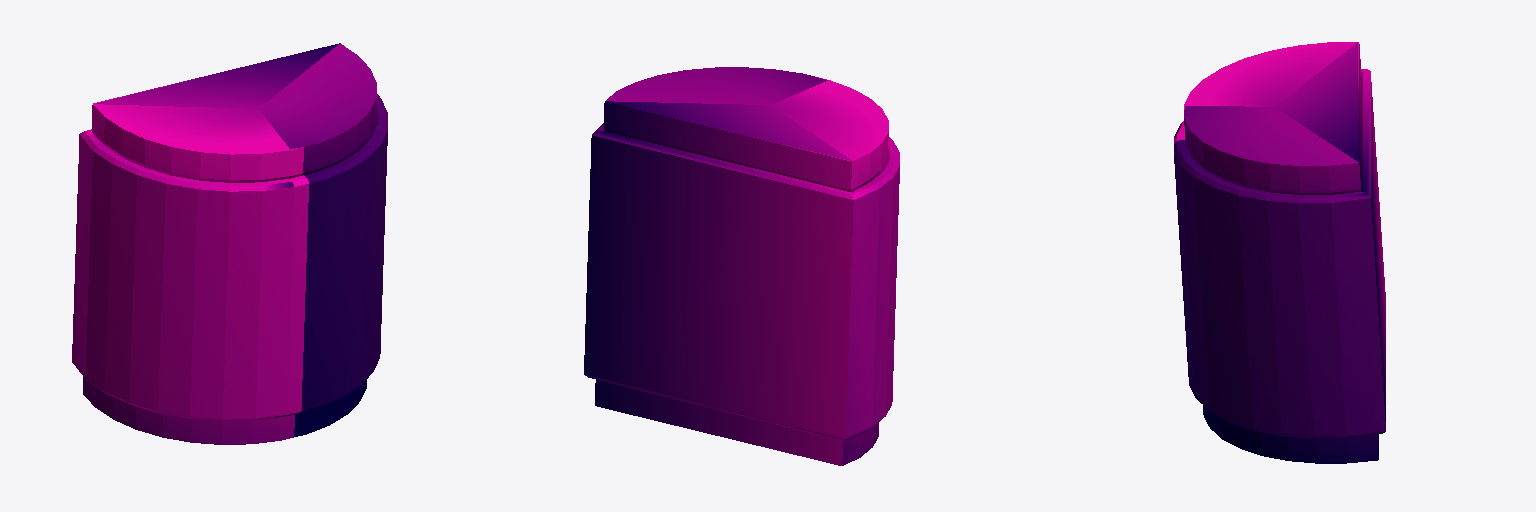
3 views of the same model, side by side, from view 1: azimuth 30°, elevation 25°; view 2: azimuth 150°, elevation 25°; view 3: azimuth 270°, elevation 25° (orthographic).
Parts seen in each view (by area): view 1: ARCHMODELS_47_050_50; view 2: ARCHMODELS_47_050_50; view 3: ARCHMODELS_47_050_50.
Boxes of the visible parts, x1=… form: ARCHMODELS_47_050_50: x1=72, y1=43, x2=387, y2=444; ARCHMODELS_47_050_50: x1=584, y1=67, x2=899, y2=465; ARCHMODELS_47_050_50: x1=1174, y1=42, x2=1385, y2=463.
Bounding box in the file's own units: 0.5284 × 0.5644 × 0.3542.
1 materials, 1 textured.